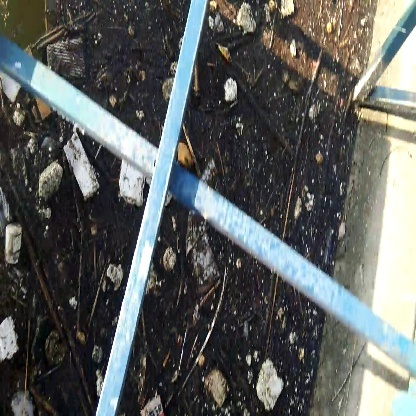branch: (294, 39, 333, 205)
